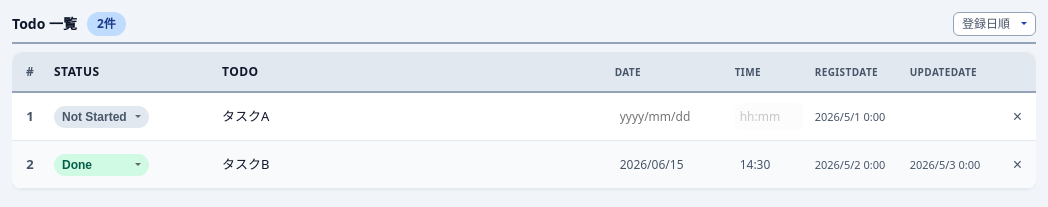
Test: TodoTable - DATE/TIME interdependence (US-017) › shows 00:00 for TIME when DATE is set but TIME is empty on commit
In the field with placeholder "yyyy/mm/dd": (669, 117) 615,103 -> 723,130, type "2026/07/01"
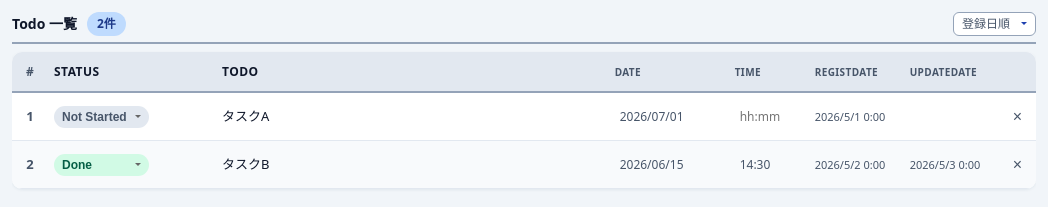
Leave the field in the row of "タスクA", box 615,103 -> 723,130
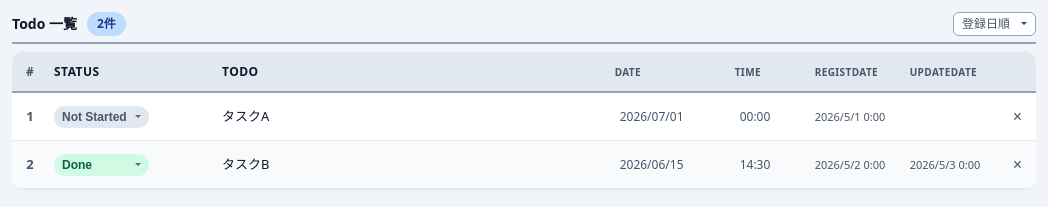
Check: the 2nd field holds "00:00", box 735,103 -> 803,130
